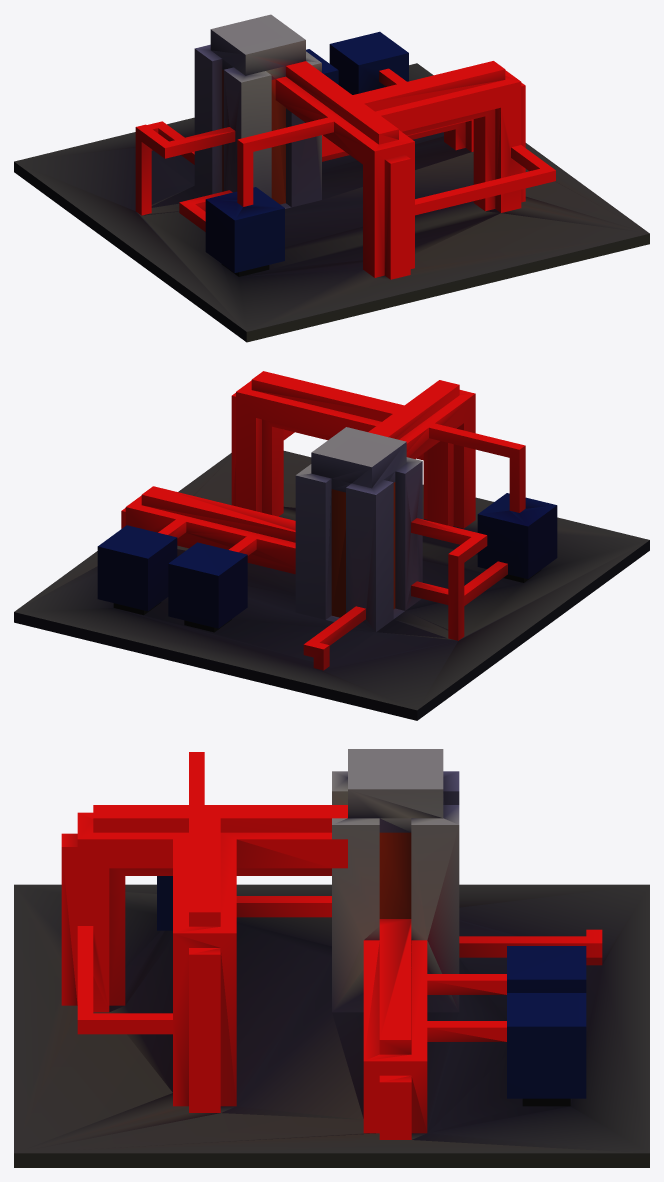
The model's file is level0-0.glb.
3 views of the same model, one above another, from view 1: azimuth 30°, elevation 25°; view 2: azimuth 150°, elevation 25°; view 3: azimuth 270°, elevation 25° (orthographic). The views are drawn at different scales.
Parts seen in each view (by area): view 1: ObjObject; view 2: ObjObject; view 3: ObjObject.
Part boxes in pixels (left/top/right/bottom): ObjObject: left=14, top=14, right=649, bottom=342; ObjObject: left=14, top=371, right=649, bottom=720; ObjObject: left=14, top=749, right=649, bottom=1167.
Bounding box in the file's own units: 4 × 1.6 × 4.
1 material, 1 textured.
